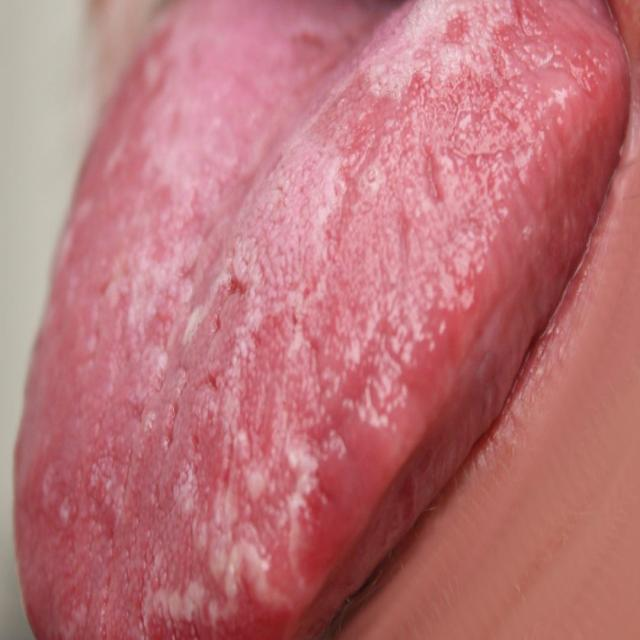right_region: (12, 1, 631, 636)
